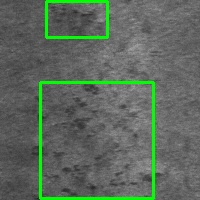rolled-in_scale: (41, 82, 153, 198), (46, 1, 107, 37)
